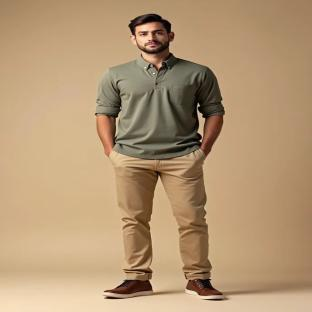Human: (95, 13, 224, 299)
